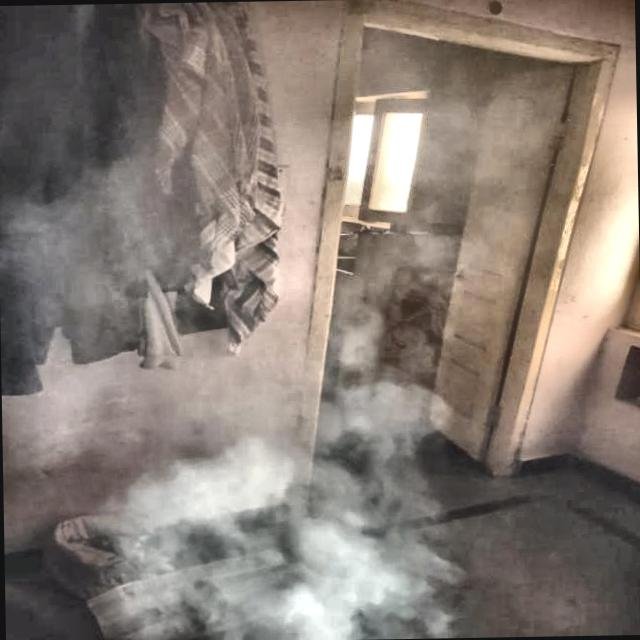smoke: (131, 401, 392, 640)
